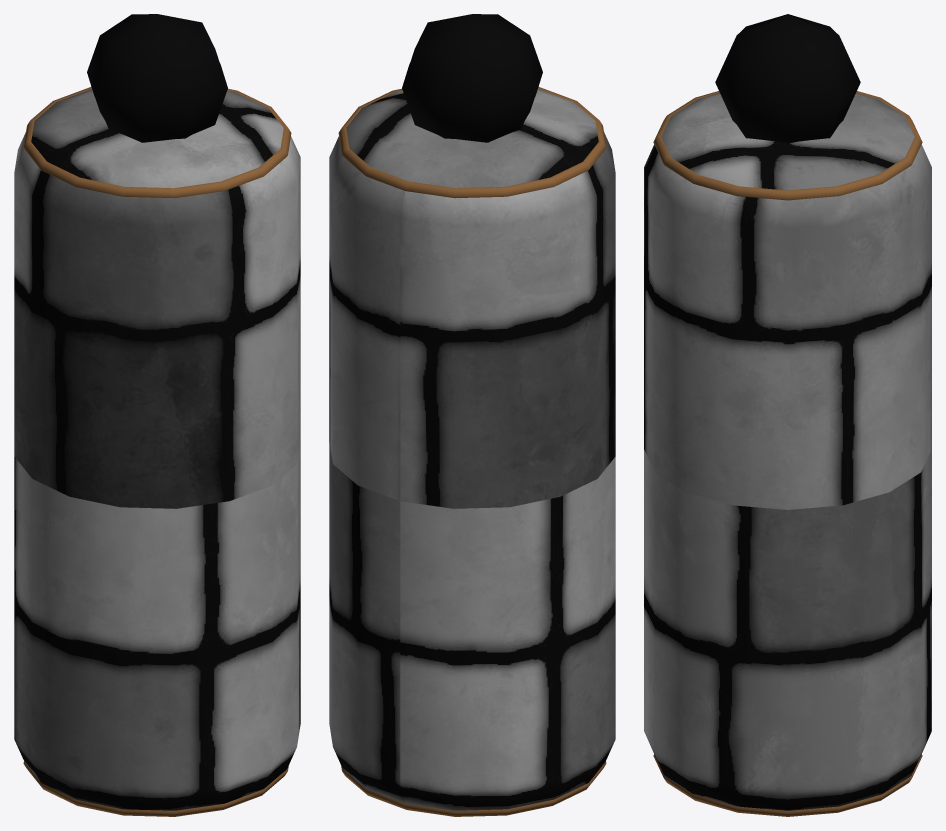
Rendered from SM_Obstacle_Nunchaku.fbx.
The picture shows the model from 3 angles, left to right: view 1: azimuth 30°, elevation 25°; view 2: azimuth 150°, elevation 25°; view 3: azimuth 270°, elevation 25°; orthographic projection.
Visible parts, largest first — view 1: SM_Obstacle_Nunchaku; view 2: SM_Obstacle_Nunchaku; view 3: SM_Obstacle_Nunchaku.
Boxes of the visible parts, box(x1,y1,x2,y2) form: SM_Obstacle_Nunchaku: box(14, 14, 300, 816); SM_Obstacle_Nunchaku: box(329, 14, 615, 816); SM_Obstacle_Nunchaku: box(644, 14, 931, 816).
Size of the model in its own units: 19.77 by 58 by 19.77.
